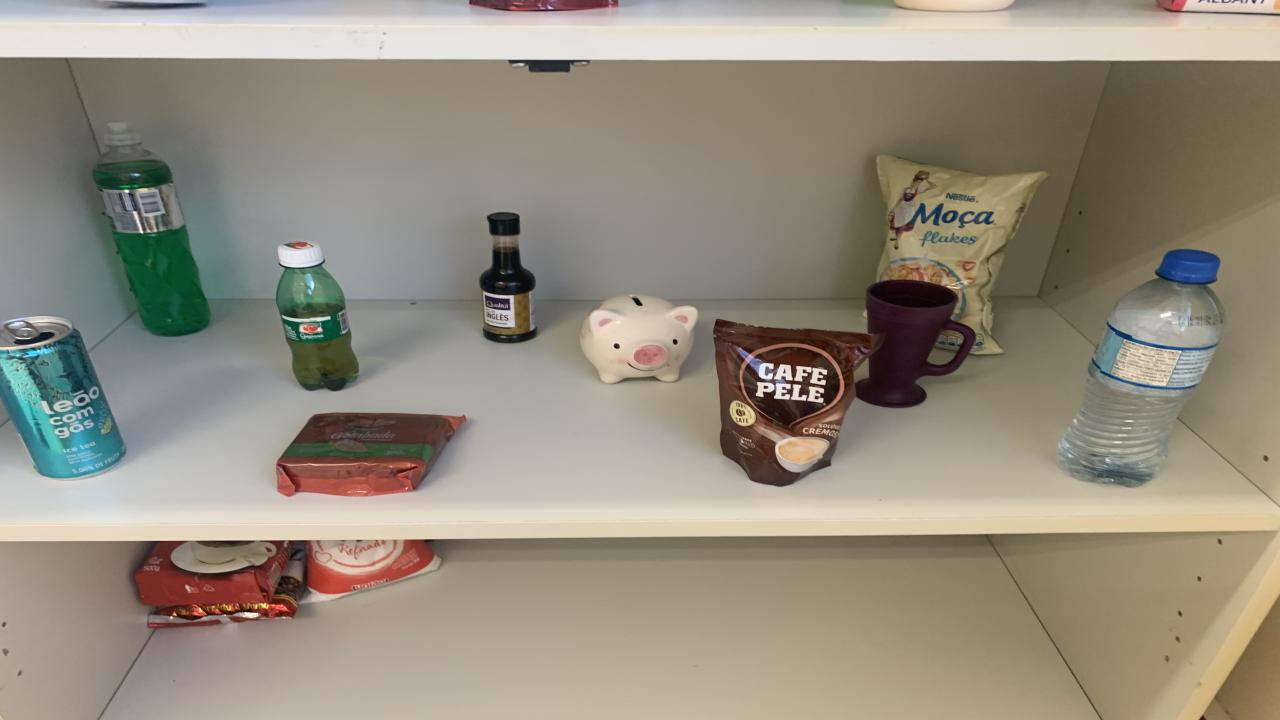Coffee-Pantry_Items: (712, 321, 880, 486)
Detergent-Cleanup_Items: (92, 122, 210, 336)
English_Sauce-Pantry_Items: (480, 212, 538, 343)
Flakes-Snacks: (878, 156, 1048, 354)
Guarana-Drinks: (275, 242, 358, 390)
Guava-Snacks: (278, 412, 465, 495)
Mayonnaise-Pantry_Items: (892, 0, 1015, 11)
Pig_Safe-Miscellaneous: (580, 294, 698, 384)
Soap-Cleanup_Items: (1158, 0, 1280, 15)
Tea-Drinks: (0, 317, 125, 480)
Tomato_Sauce-Pantry_Items: (470, 0, 618, 11)
Water_Bottle-Drinks: (1058, 249, 1225, 488)
